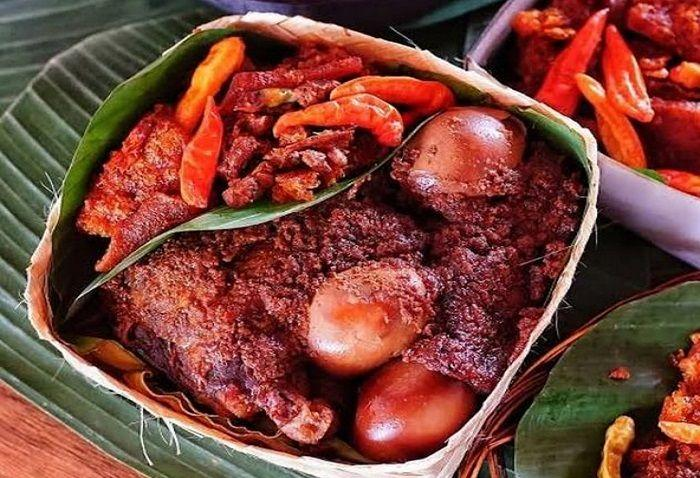gudeg: (73, 37, 585, 459)
